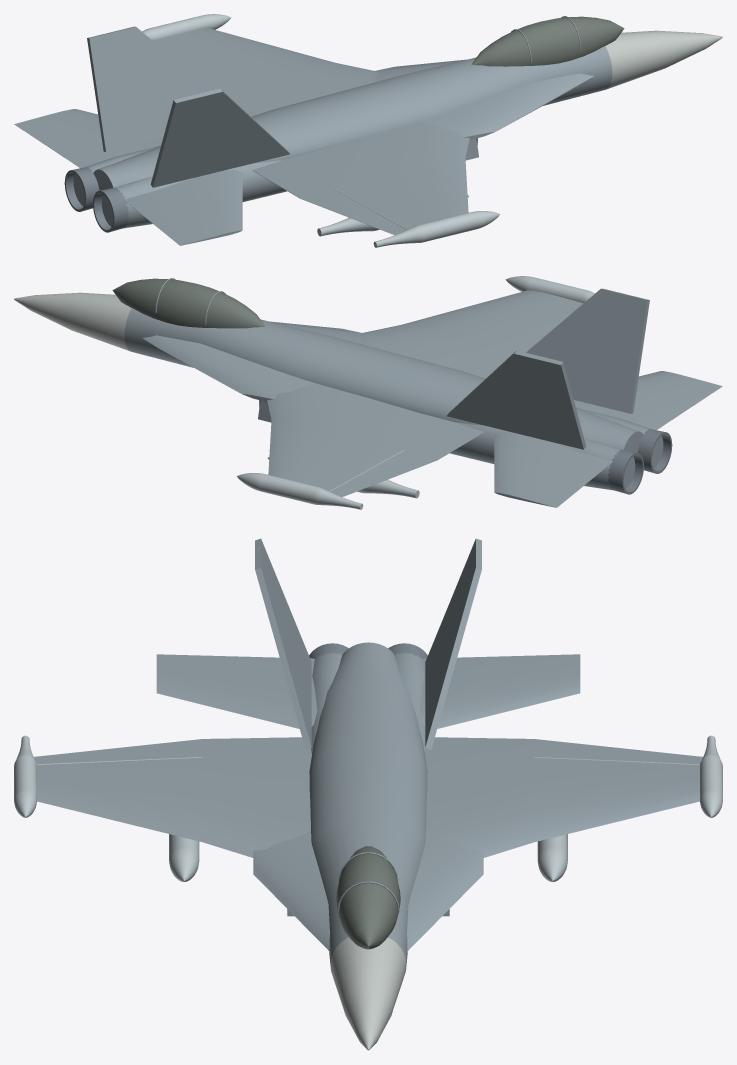
File: usn_ea_ea18g.glb
The picture shows the model from 3 angles, top to bottom: view 1: azimuth 30°, elevation 25°; view 2: azimuth 150°, elevation 25°; view 3: azimuth 270°, elevation 25°; orthographic projection. The views are drawn at different scales.
Parts seen in each view (by area): view 1: airframe, canopy_gold, array_face, airframe_light, titanium; view 2: airframe, canopy_gold, array_face, airframe_light, titanium; view 3: airframe, array_face, airframe_light, canopy_gold.
Part boxes in pixels (x1,y1,x2,y2): airframe: (14,16,612,245); canopy_gold: (471,16,624,66); array_face: (333,30,722,229); airframe_light: (142,14,499,247); titanium: (64,167,128,232); airframe: (124,278,722,507); canopy_gold: (112,278,265,328); array_face: (14,292,403,491); airframe_light: (237,276,594,509); titanium: (608,429,672,494); airframe: (34,538,702,963); array_face: (37,757,699,1050); airframe_light: (14,735,722,881); canopy_gold: (336,846,400,949).
Size of the model in its own units: 10 by 2.26 by 7.6.
